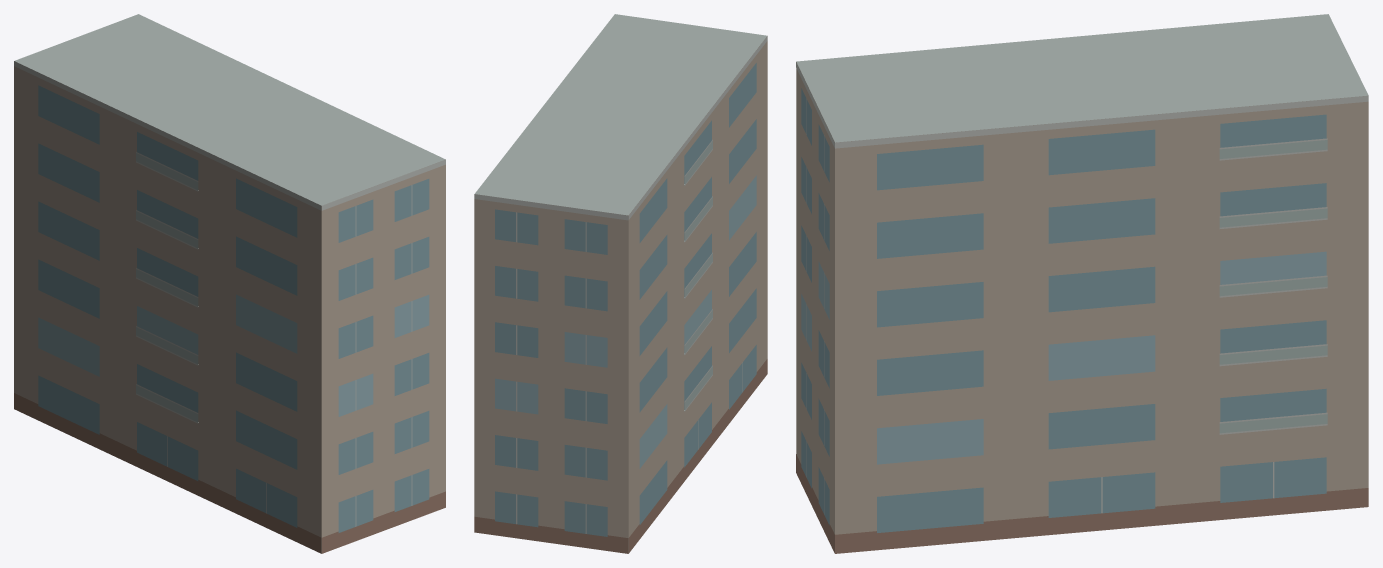
Rendered from survey-upis-33004962.glb.
3 views of the same model, side by side, from view 1: azimuth 30°, elevation 25°; view 2: azimuth 150°, elevation 25°; view 3: azimuth 270°, elevation 25° (orthographic). The views are drawn at different scales.
Visible parts, largest first — view 1: survey-upis-33004962.tmp; view 2: survey-upis-33004962.tmp; view 3: survey-upis-33004962.tmp.
Boxes of the visible parts, x1,y1,x2,y2 form: survey-upis-33004962.tmp: (14, 14, 445, 553); survey-upis-33004962.tmp: (474, 14, 767, 553); survey-upis-33004962.tmp: (796, 14, 1368, 553).
Size of the model in its own units: 11.13 by 16.6 by 20.95.
